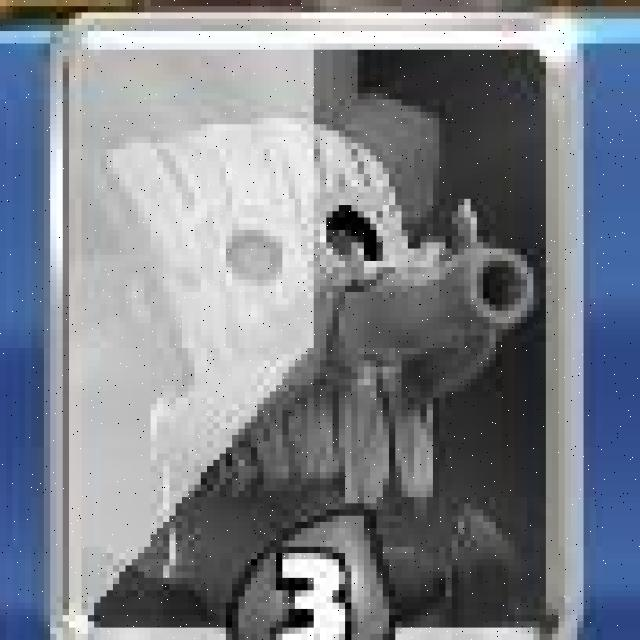Dart_Goblin: (46, 8, 590, 640)
